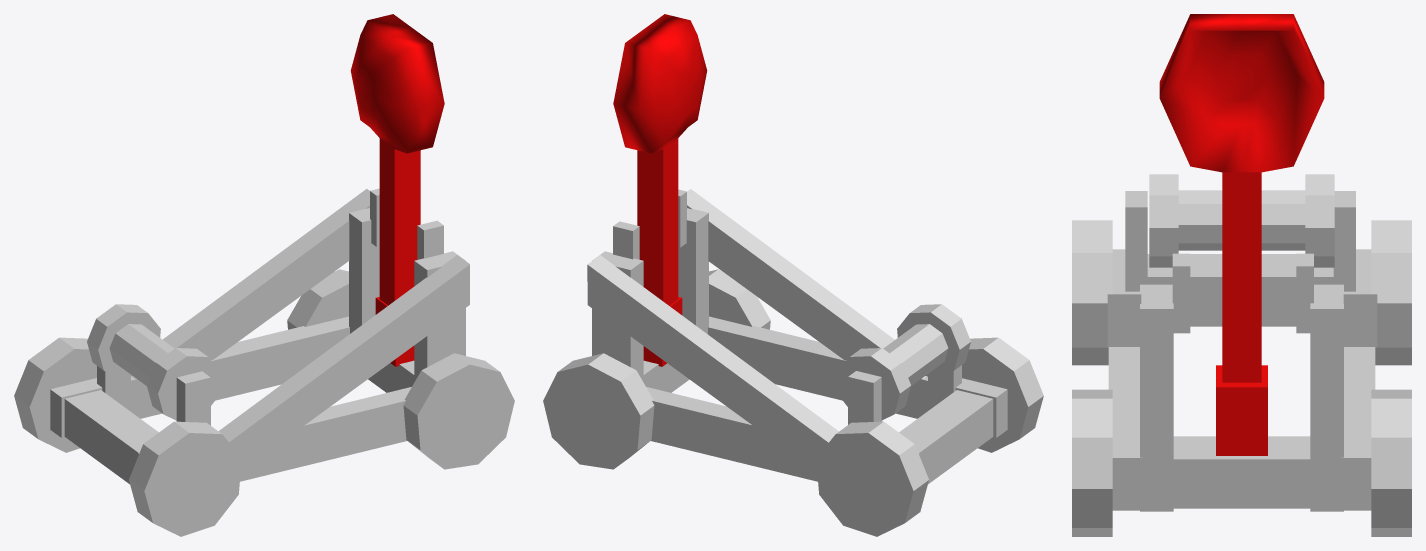
File: Catapult.fbx
3 renders of one model, left to right at view 1: azimuth 30°, elevation 25°; view 2: azimuth 150°, elevation 25°; view 3: azimuth 270°, elevation 25°, orthographic. The views are drawn at different scales.
Parts seen in each view (by area): view 1: Cube.001, Cube; view 2: Cube.001, Cube; view 3: Cube.001, Cube.
Boxes of the visible parts, x1,y1,x2,y2 form: Cube.001: (14, 188, 514, 536); Cube: (350, 14, 444, 366); Cube.001: (543, 189, 1043, 536); Cube: (613, 14, 707, 366); Cube.001: (1072, 174, 1411, 536); Cube: (1159, 14, 1324, 455).
Bounding box in the file's own units: 454 × 454 × 276.
